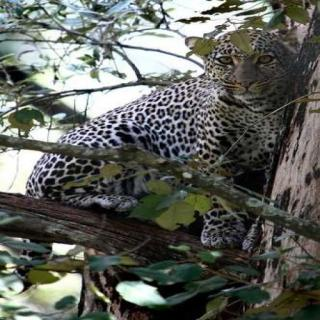Leopard: (65, 18, 299, 255)
